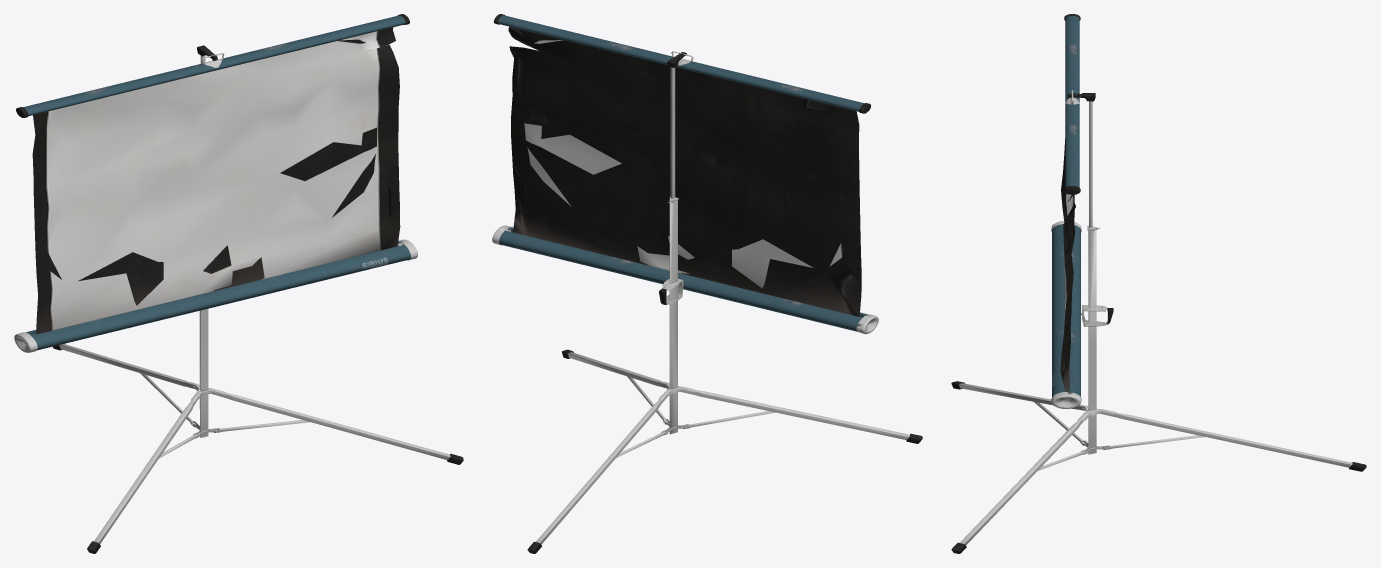
Rendered from ph-projector-screen.glb.
The picture shows the model from 3 angles, left to right: view 1: azimuth 30°, elevation 25°; view 2: azimuth 150°, elevation 25°; view 3: azimuth 270°, elevation 25°; orthographic projection. The views are drawn at different scales.
Parts seen in each view (by area): view 1: projector_screen; view 2: projector_screen; view 3: projector_screen.
Part boxes in pixels (x1,y1,x2,y2): projector_screen: [14, 14, 463, 553]; projector_screen: [492, 14, 922, 553]; projector_screen: [951, 14, 1366, 553].
Bounding box in the file's own units: 1 × 1 × 1.
2 materials, 2 textured.
